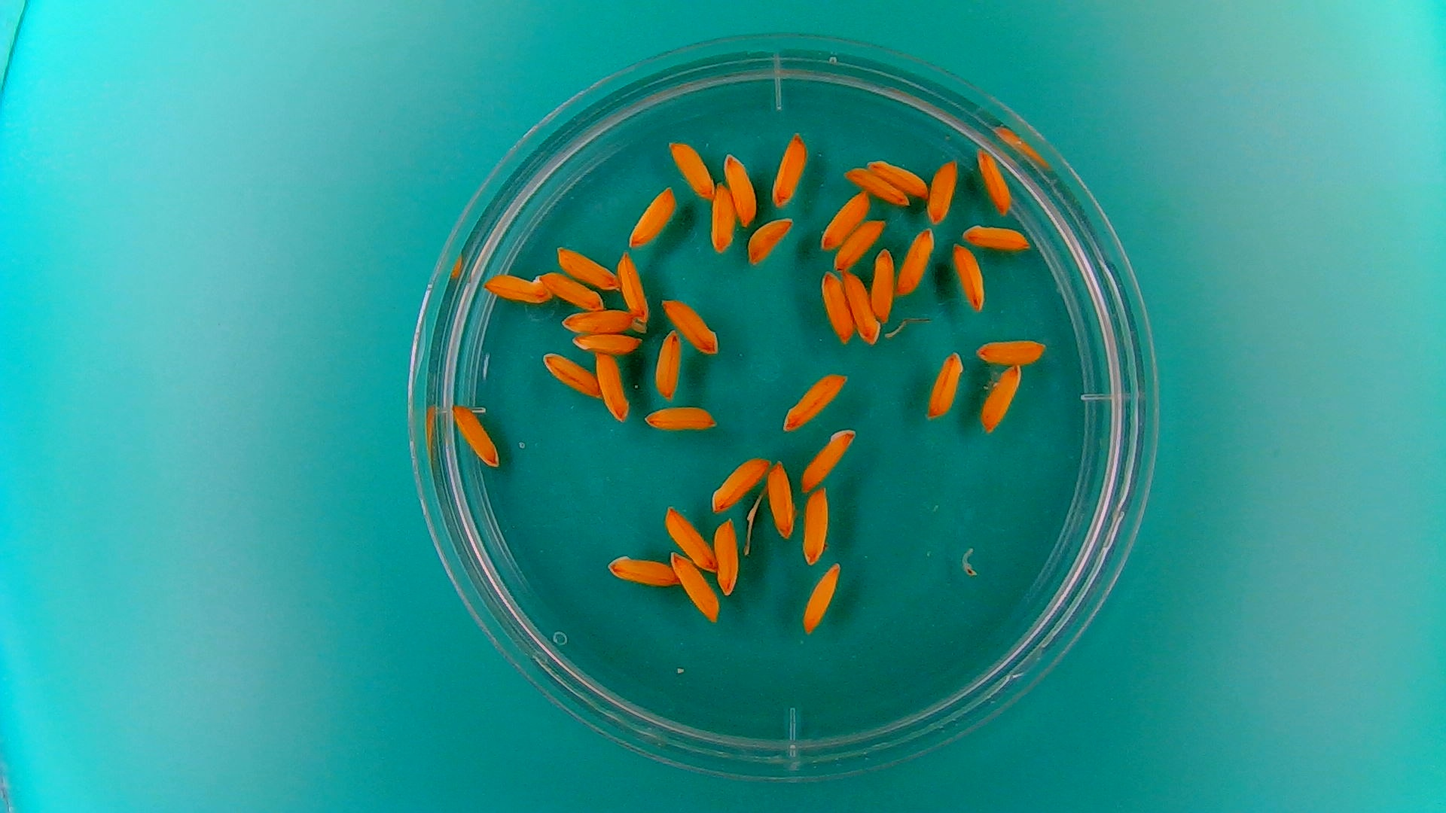no: (779, 370, 850, 432), (668, 549, 721, 623), (661, 502, 717, 572), (658, 296, 721, 357), (708, 452, 770, 512), (798, 426, 856, 490), (450, 401, 502, 470), (799, 560, 844, 636), (978, 362, 1024, 435), (819, 187, 871, 251), (627, 185, 678, 249), (769, 129, 809, 208), (840, 269, 881, 346), (539, 349, 602, 399), (554, 244, 621, 291), (895, 224, 937, 297), (593, 349, 633, 425), (972, 145, 1014, 217), (535, 269, 605, 312), (833, 217, 887, 272), (667, 139, 715, 199), (819, 269, 856, 345), (926, 349, 966, 419), (842, 166, 908, 208), (722, 150, 758, 226), (798, 483, 831, 565), (615, 250, 651, 325), (950, 240, 987, 312), (604, 554, 679, 589), (766, 458, 798, 540), (866, 157, 929, 198), (480, 270, 551, 306), (712, 515, 743, 597), (926, 154, 961, 225), (642, 403, 720, 434), (746, 215, 794, 265), (653, 325, 684, 401), (959, 221, 1033, 252), (975, 336, 1049, 366), (561, 306, 635, 335), (869, 245, 896, 324), (709, 183, 737, 253), (568, 330, 642, 355)
